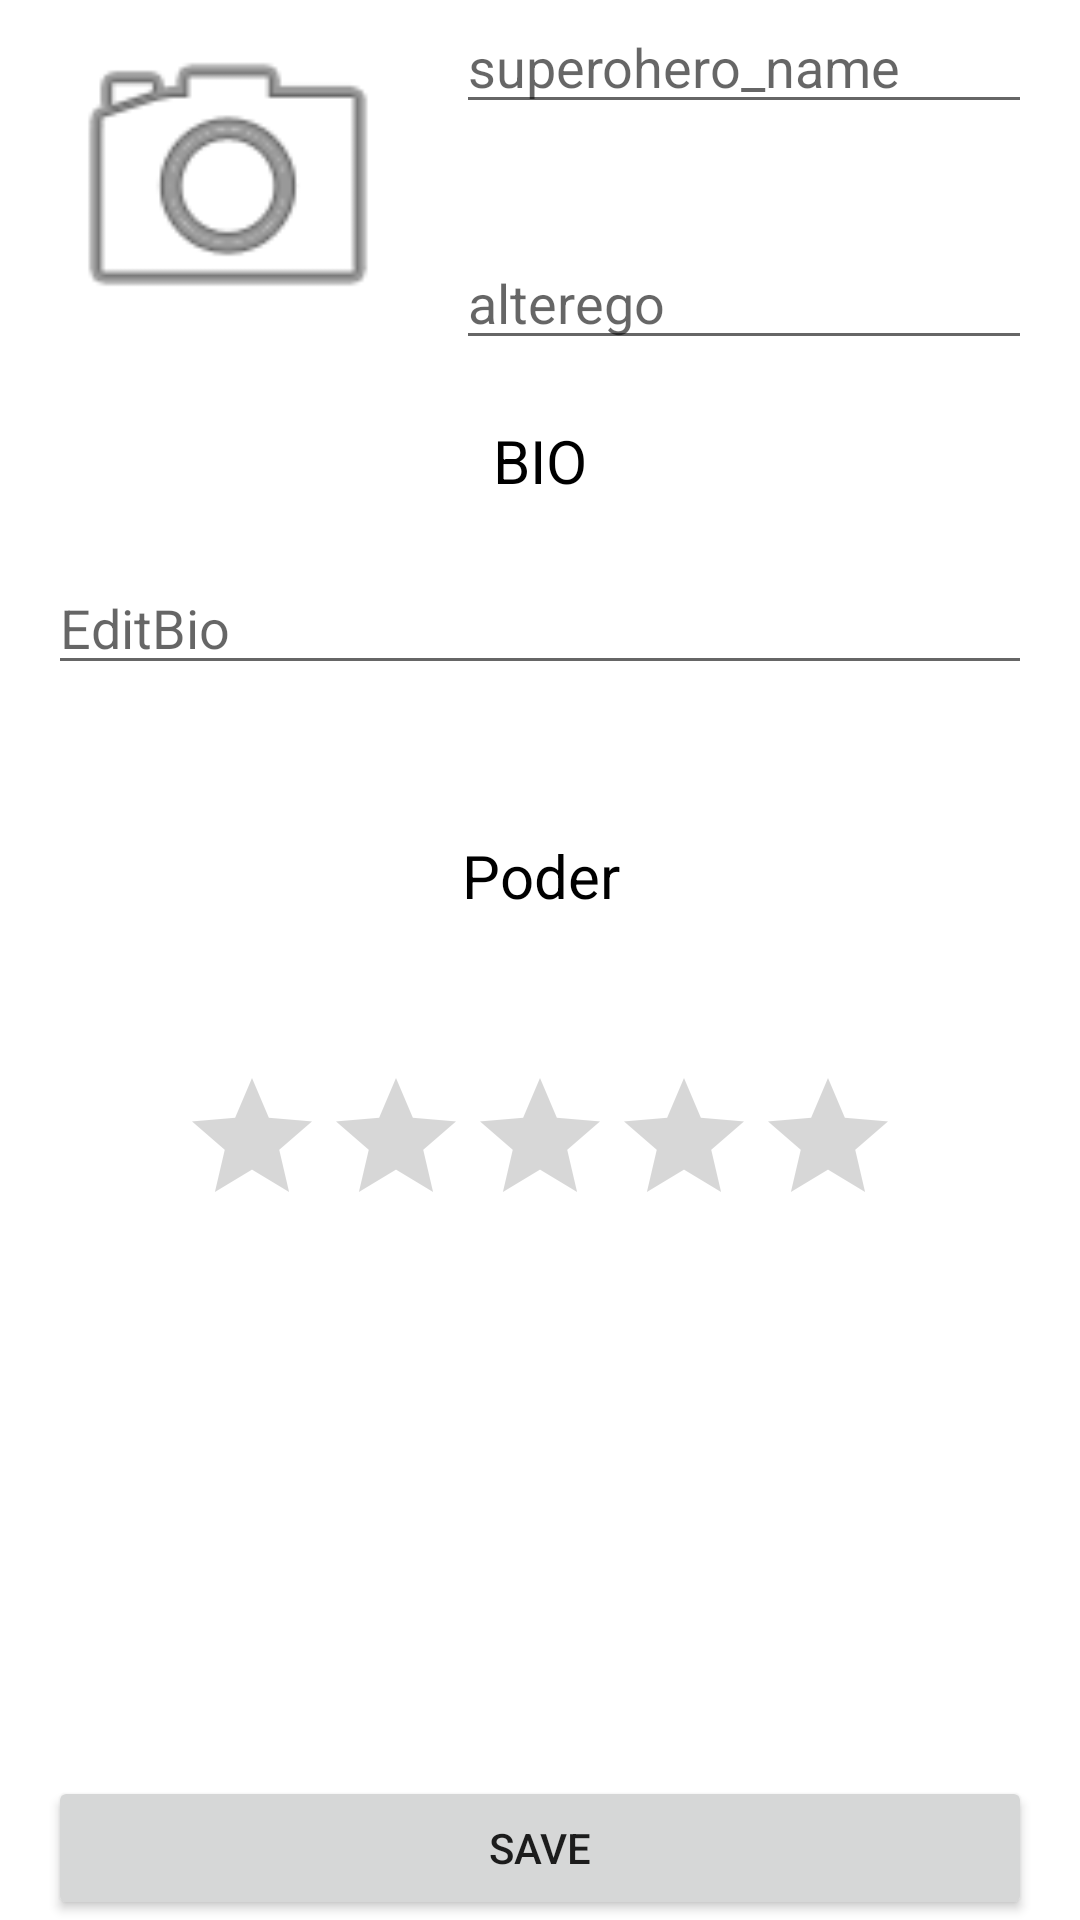

Named icons in this screenshot (1080*1920) and their bounding boxes, (x1, y1, x2, y2):
camera: (89, 63, 367, 285)
